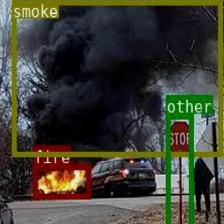fire: (32, 164, 90, 198)
smoke: (11, 0, 222, 156)
